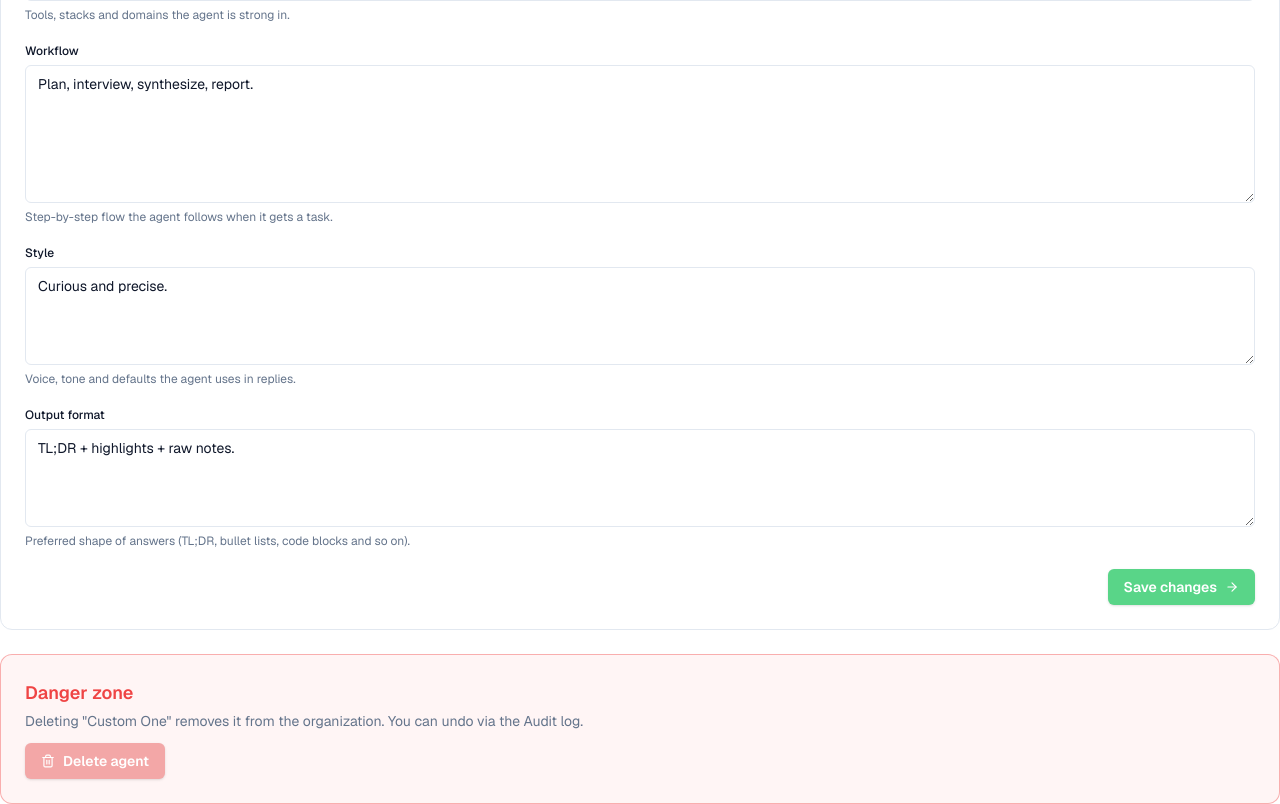
AgentSettingsPage › should keep confirm disabled until acknowledge checkbox is checked
The image size is (1280, 804).
(page scrolled)
Click the button "Delete agent" at (95, 761), box [25,743,165,779]
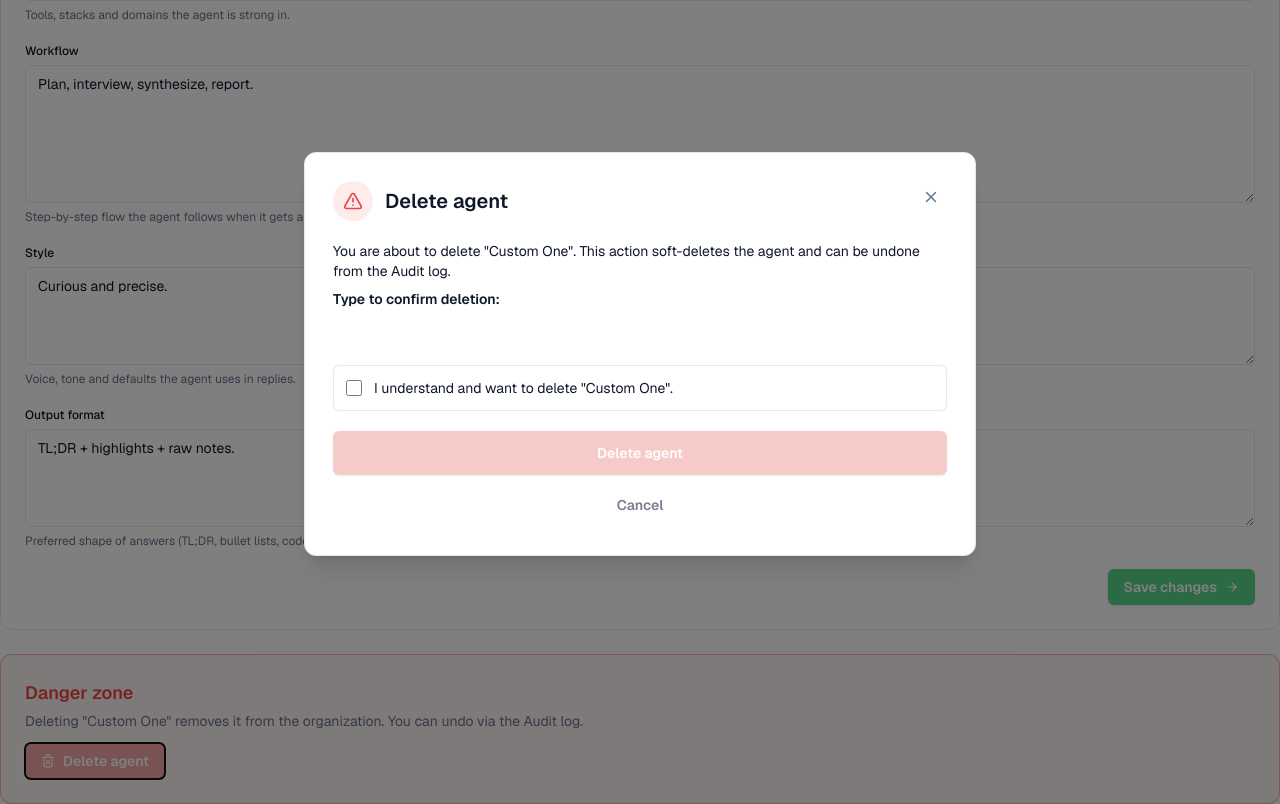
Check: the button "Delete agent" is disabled, box [333,431,947,475]
Click the checkbox at (354, 388), box [346,380,362,396]
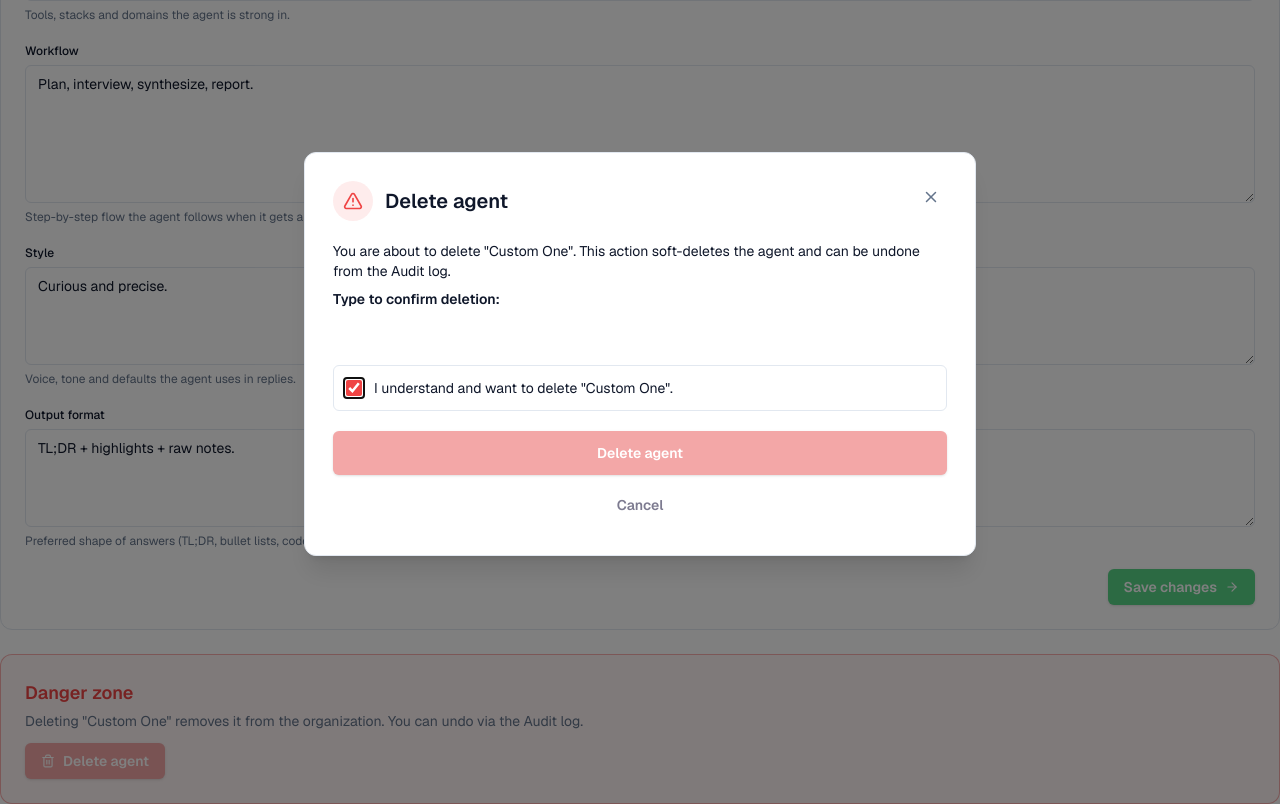
Check: the button "Delete agent" is enabled, box [333,431,947,475]
